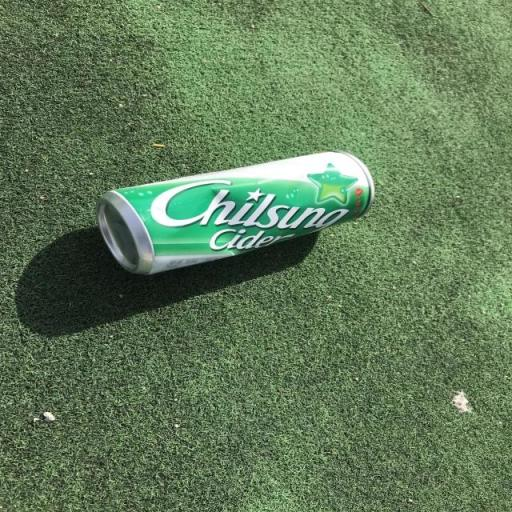metal: (41, 129, 396, 314)
